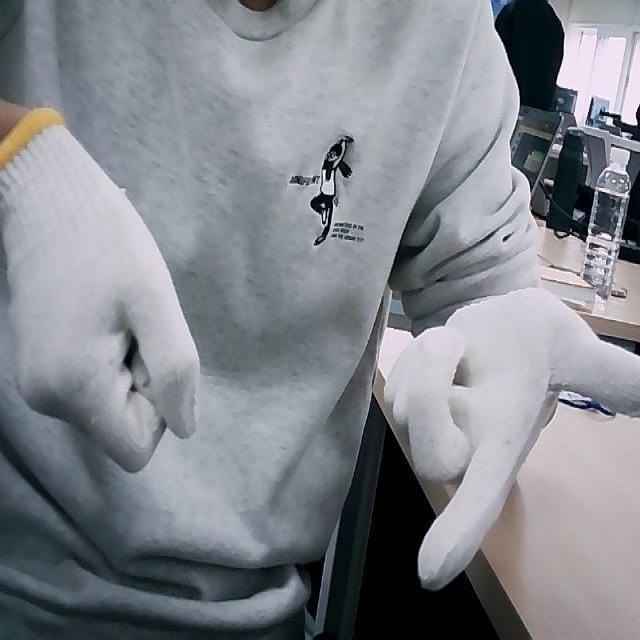Guantes: (384, 288, 640, 586), (0, 106, 202, 473)
